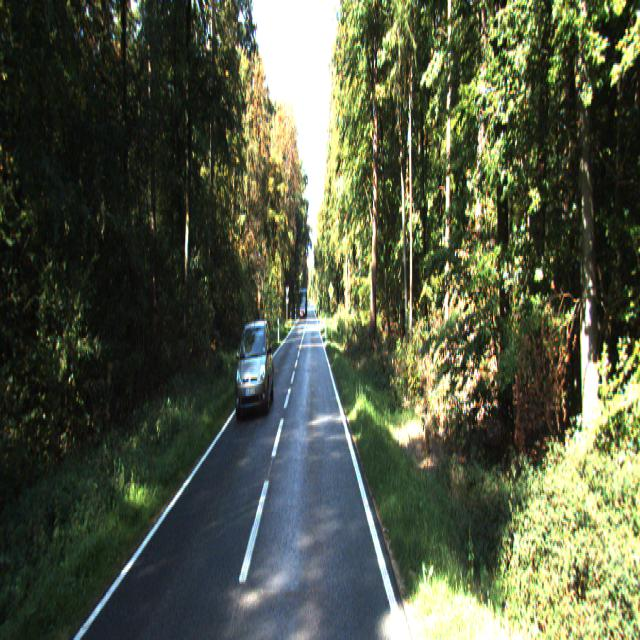Car: (235, 314, 275, 413)
